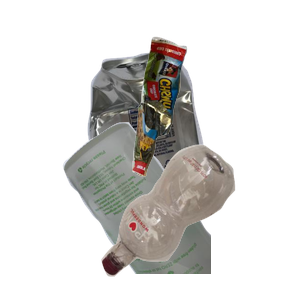glass: (60, 120, 300, 300)
metal: (85, 48, 300, 228)
plastic: (99, 142, 300, 300)
trash: (130, 34, 300, 203)
